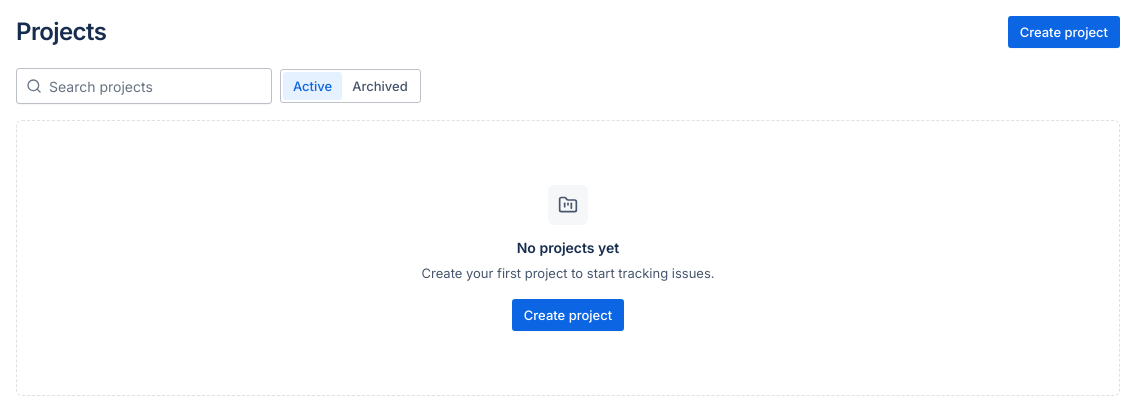
ProjectsPage › asks the API for archived projects when that view is chosen
The image size is (1137, 413).
Check: the heading "No projects yet" is shown, box top-left (517, 237), bottom-right (619, 259)
Click the button "archived" at (380, 86), box top-left (342, 72), bottom-right (418, 100)
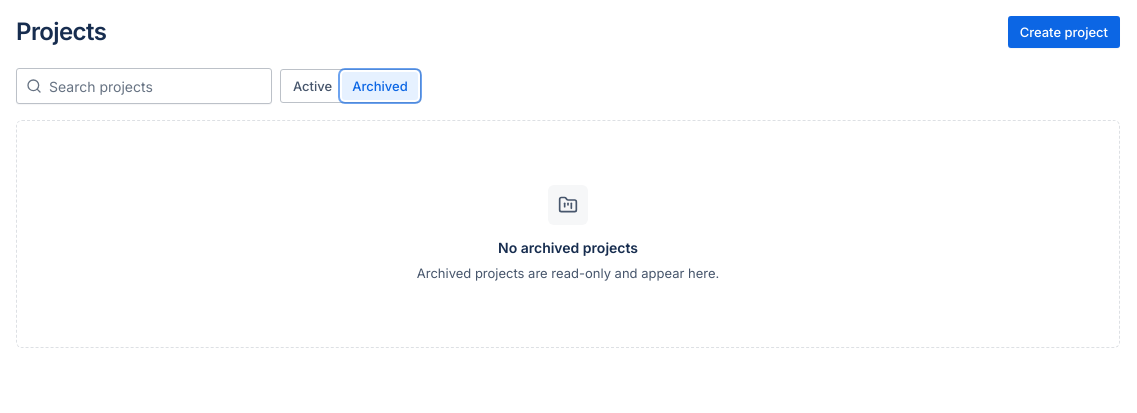
Check: the heading "No archived projects" is shown, box top-left (498, 237), bottom-right (638, 259)
